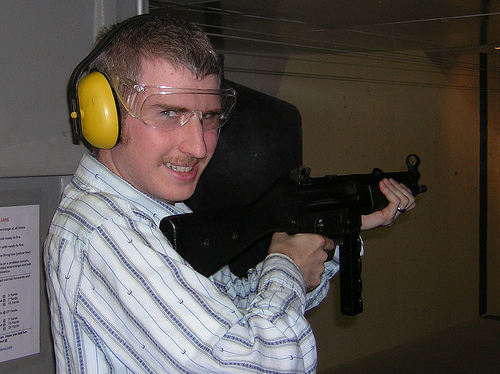rifle: (258, 156, 416, 222)
rifle in hand: (193, 145, 436, 265)
